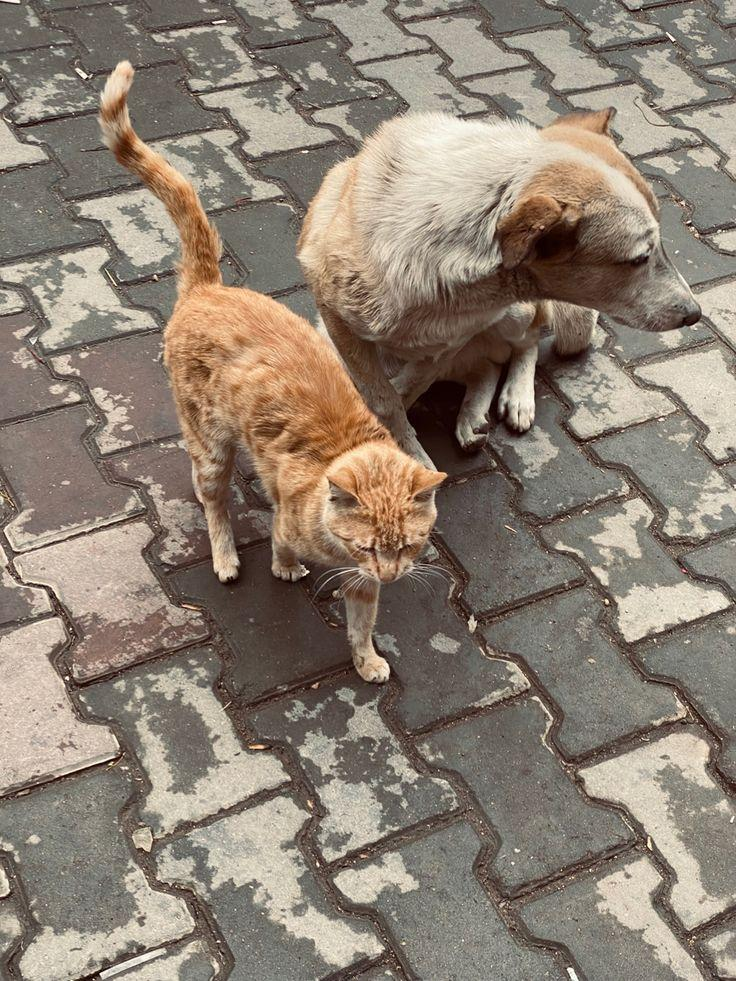kedo: (86, 48, 467, 697)
